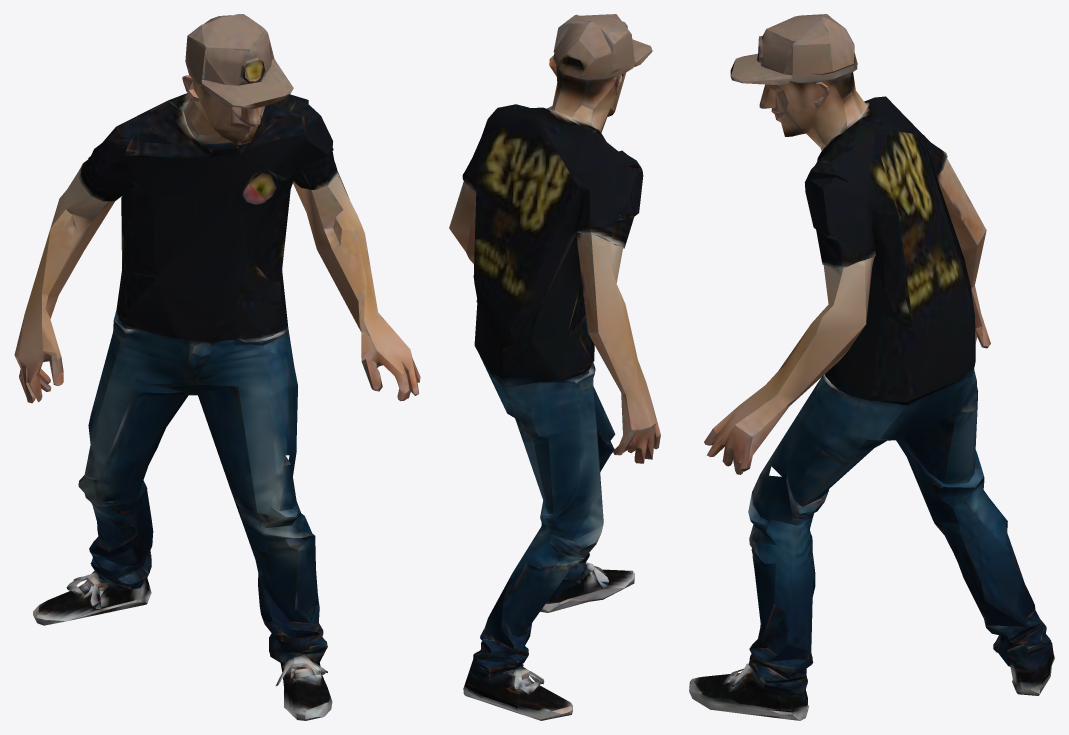
The model's file is intel_idle_lod2.glb.
The picture shows the model from 3 angles, left to right: view 1: azimuth 30°, elevation 25°; view 2: azimuth 150°, elevation 25°; view 3: azimuth 270°, elevation 25°; orthographic projection. The views are drawn at different scales.
Visible parts, largest first — view 1: tripo_node_9f54c896; view 2: tripo_node_9f54c896; view 3: tripo_node_9f54c896.
Boxes of the visible parts, box(x1,y1,x2,y2) form: tripo_node_9f54c896: box(14, 14, 420, 720); tripo_node_9f54c896: box(449, 14, 660, 720); tripo_node_9f54c896: box(689, 14, 1054, 720).
Bounding box in the file's own units: 44.23 × 94.4 × 46.84.
Materials: 1 (1 with a texture image).
